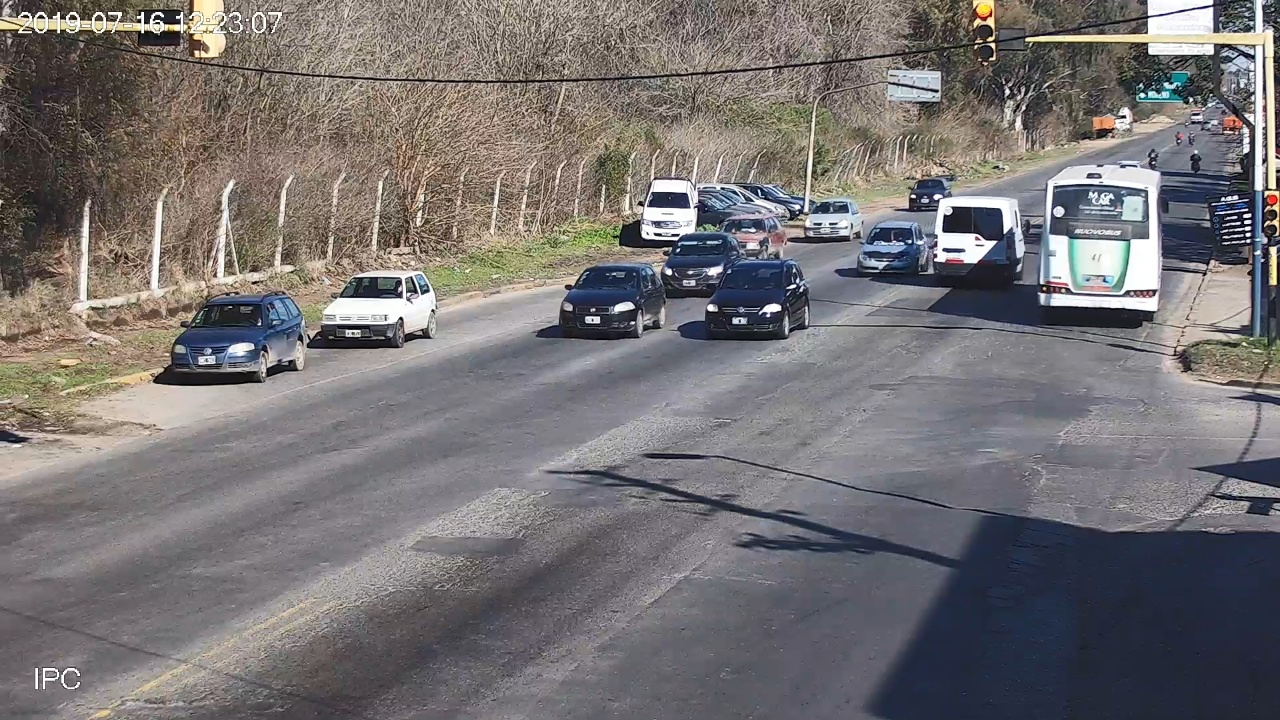bus: (1038, 165, 1169, 324)
car: (933, 197, 1031, 286)
front car: (171, 291, 307, 382), (321, 271, 437, 346), (705, 259, 810, 339), (559, 264, 667, 337)
traffic light: (976, 1, 995, 62), (1264, 189, 1279, 236)
